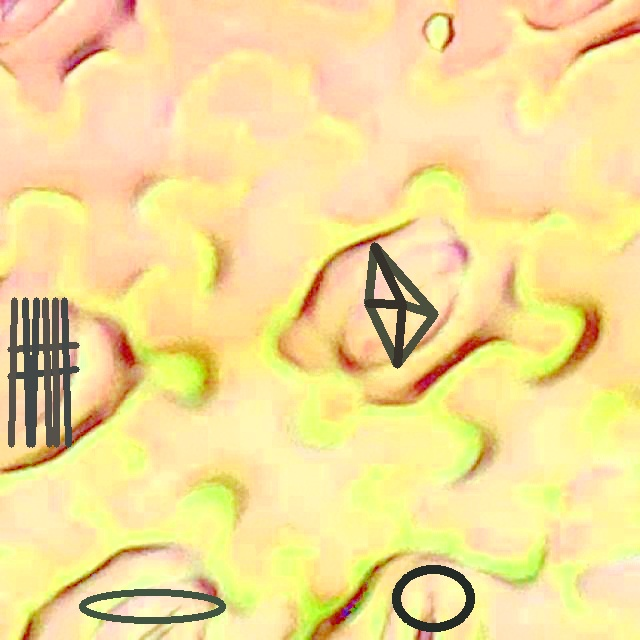close: (8, 298, 78, 446), (365, 242, 438, 367)
open: (391, 564, 475, 631), (79, 588, 226, 625)
